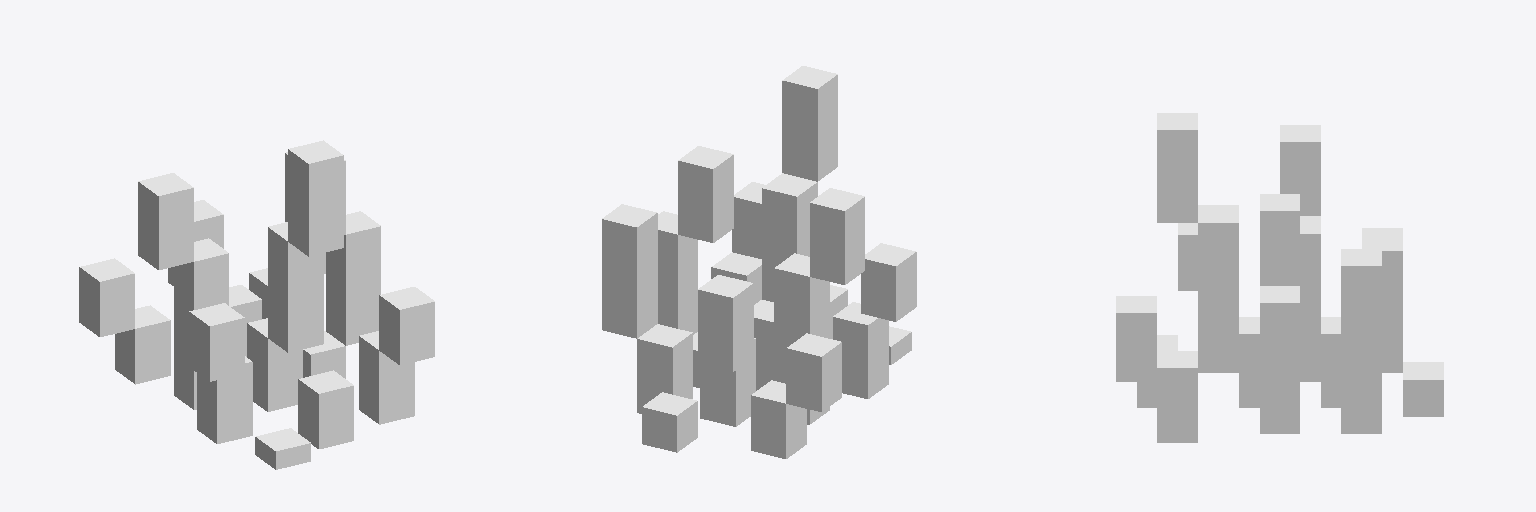
Rendered from w trawa.obj.
3 renders of one model, left to right at view 1: azimuth 30°, elevation 25°; view 2: azimuth 150°, elevation 25°; view 3: azimuth 270°, elevation 25°, orthographic.
Parts seen in each view (by area): view 1: object 1; view 2: object 1; view 3: object 1.
Boxes of the visible parts, <box> form: object 1: <box>79,140,434,469</box>; object 1: <box>602,66,916,458</box>; object 1: <box>1116,113,1443,442</box>.
Bounding box in the file's own units: 1.3 × 1.5 × 1.6.